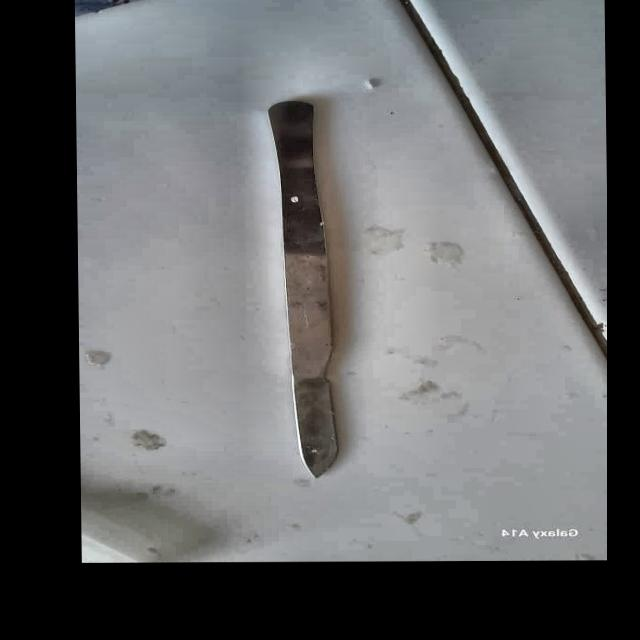Knife: (262, 93, 348, 479)
